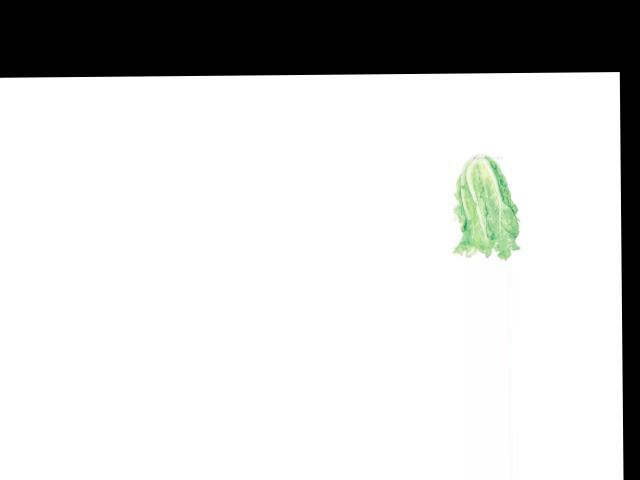lettuce: (449, 156, 520, 261)
